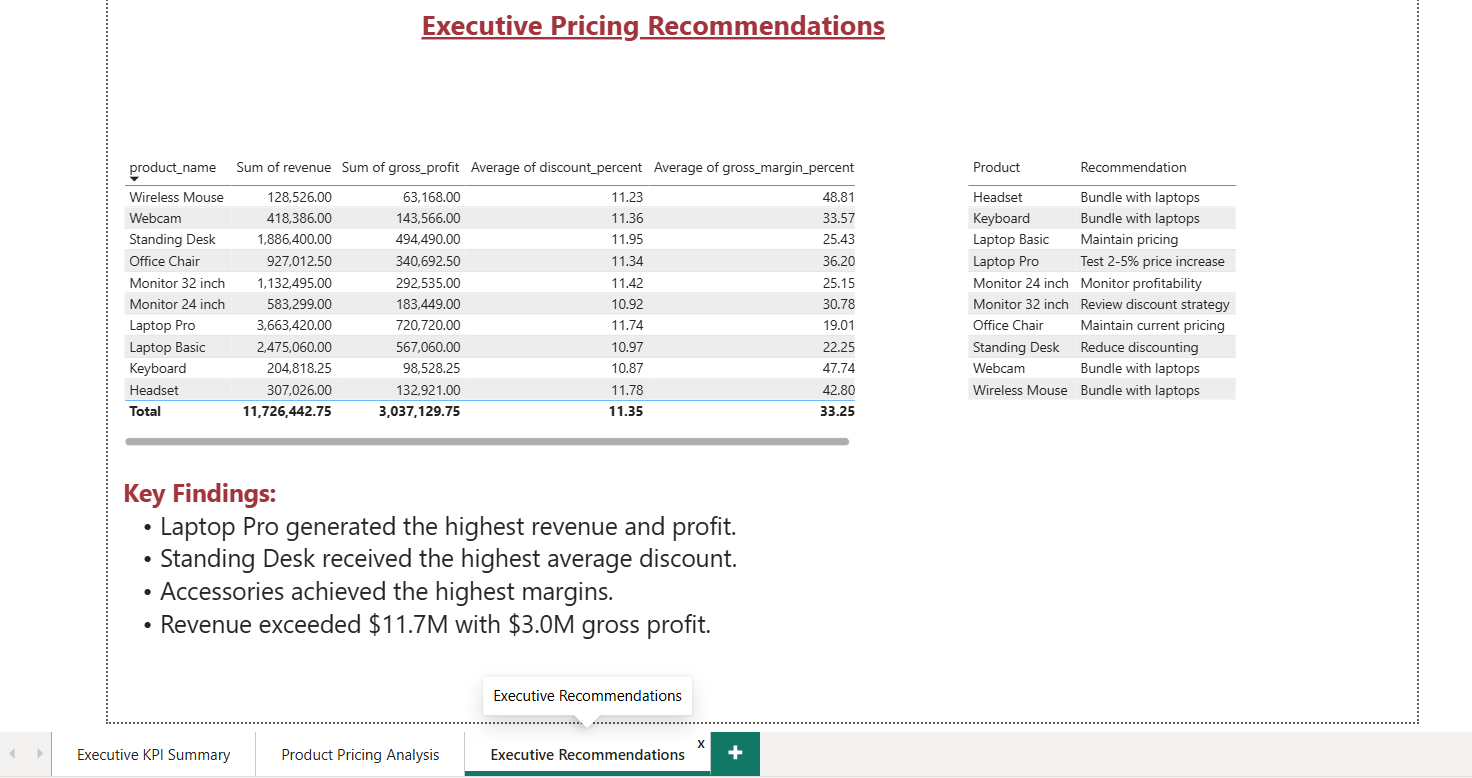

What the dashboard file says about the page in this screenshot:
{"tool":"powerbi","page":{"name":"Executive Recommendations","canvas":[1280,720],"ordinal":2},"visuals":[{"type":"textbox","box":[9.9,14.2,1047.3,56.8],"z":0},{"type":"tableEx","fields":{"Values":["public sales_pricing.product_name","Sum(public sales_pricing.revenue)","Sum(public sales_pricing.gross_profit)","Avg(public sales_pricing.discount_percent)","Avg(public sales_pricing.gross_margin_percent)"]},"box":[9.9,162,726.1,294.1],"z":1000},{"type":"textbox","box":[9.9,474.6,740.3,203.2],"z":2000},{"type":"tableEx","fields":{"Values":["pricing_recommendations.Product","pricing_recommendations.Recommendation"]},"box":[835.5,162,396.4,294.1],"z":2001}]}

Visuals, with their boxes on the page's 1280x720 design canvas (x1, y1, x2, y2). These are canvas units, not pixel positions in the 1472x778 screenshot, which may show the page scaled, cropped or inside an application window:
textbox: [x1=10, y1=14, x2=1057, y2=71]
tableEx - public sales_pricing.product_name x Sum(public sales_pricing.revenue): [x1=10, y1=162, x2=736, y2=456]
textbox: [x1=10, y1=475, x2=750, y2=678]
tableEx - pricing_recommendations.Product x pricing_recommendations.Recommendation: [x1=836, y1=162, x2=1232, y2=456]
